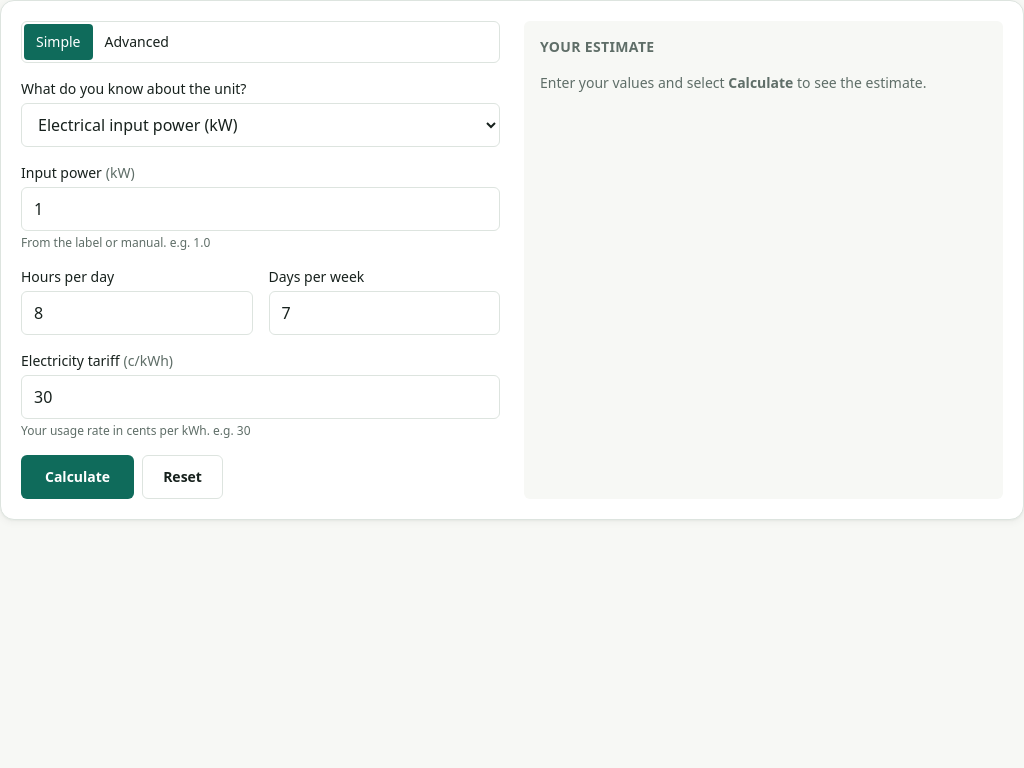
Test case: AirConditionerCalculator › computes a result from the default inputs on Calculate
This screenshot has width=1024, height=768.
What coordinates should you click on to do the following:
click the button "Calculate"
I would click on:
 (78, 477)
Its box is [21,455,134,499].
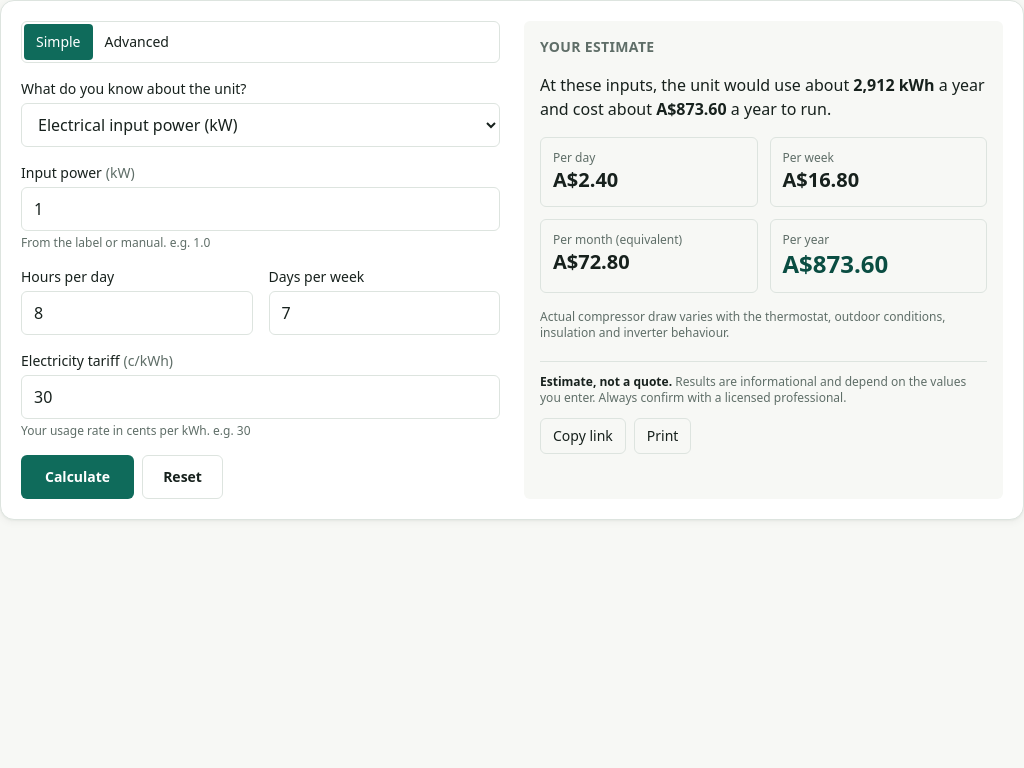
Now the text "a year to run" is shown, box [727,98,831,120]
Now the text "Estimate, not a quote." is shown, box [540,373,672,390]
